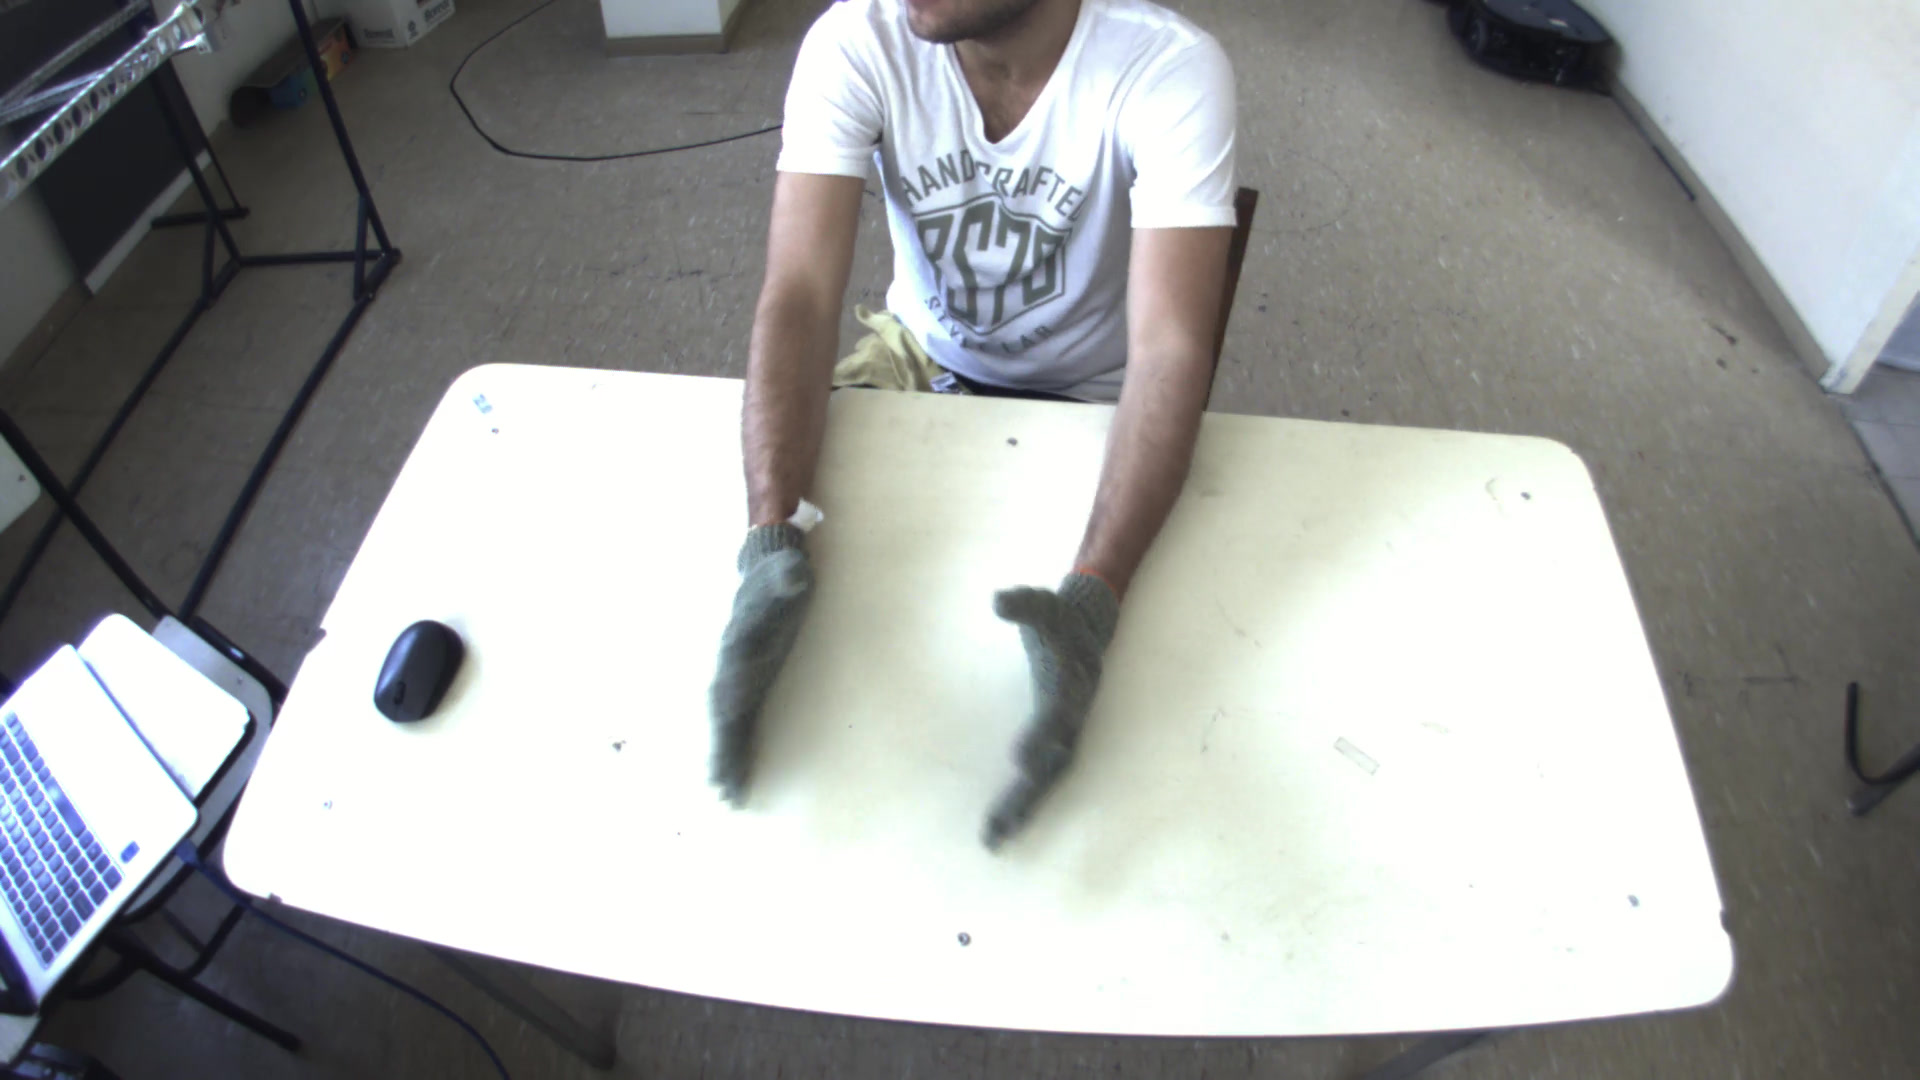hand: (984, 570, 1130, 862), (694, 500, 828, 814)
